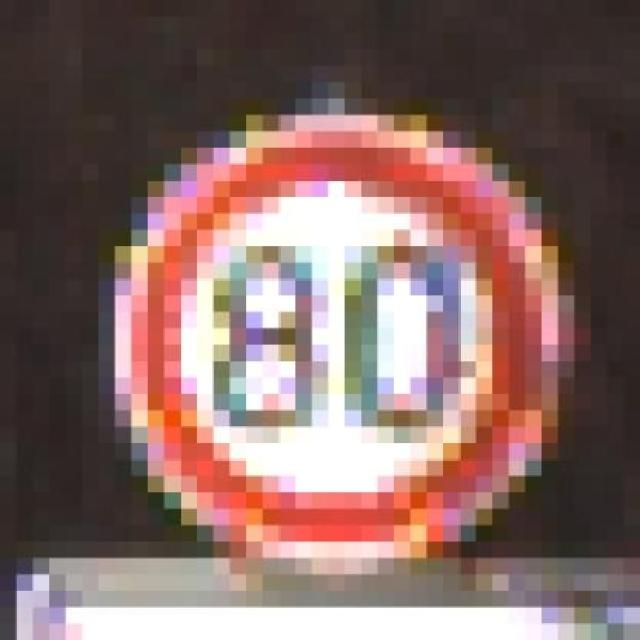forb_speed_over_80: (120, 137, 543, 543)
